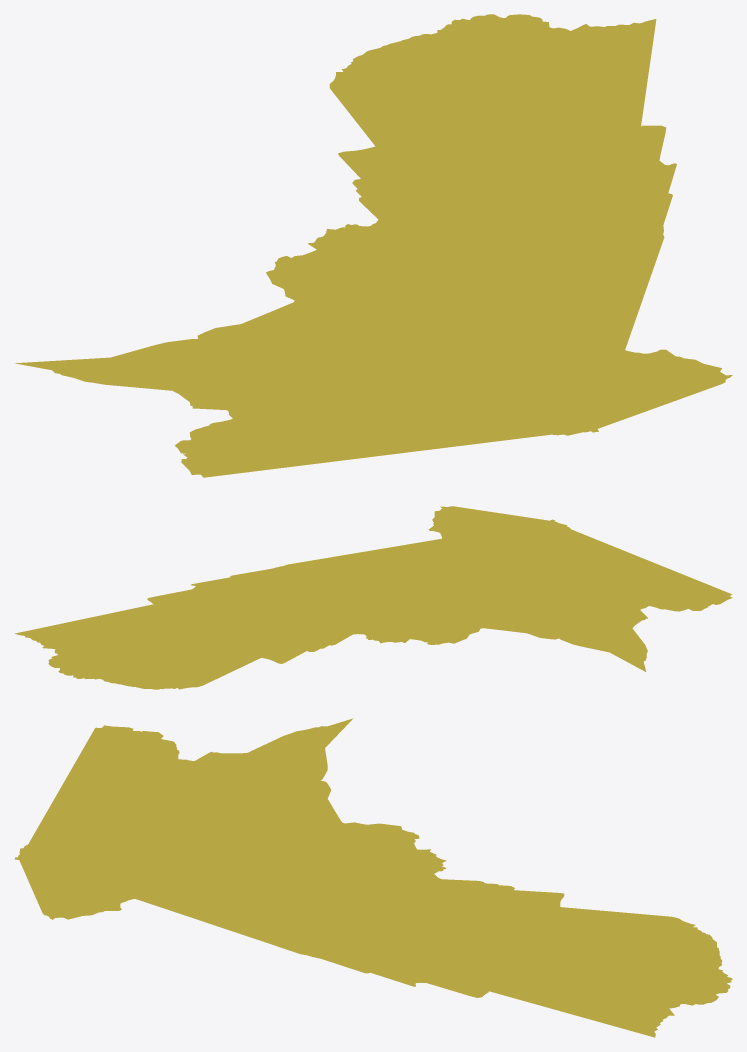
The model's file is pakistan.obj.
The picture shows the model from 3 angles, top to bottom: view 1: azimuth 30°, elevation 25°; view 2: azimuth 150°, elevation 25°; view 3: azimuth 270°, elevation 25°; orthographic projection. The views are drawn at different scales.
Visible parts, largest first — view 1: Pakistan_Plane; view 2: Pakistan_Plane; view 3: Pakistan_Plane.
Part boxes in pixels (bbox=[...]): Pakistan_Plane: bbox=[15, 14, 732, 477]; Pakistan_Plane: bbox=[15, 506, 732, 689]; Pakistan_Plane: bbox=[14, 718, 732, 1037].
Size of the model in its own units: 8.81 by 0 by 8.38.
